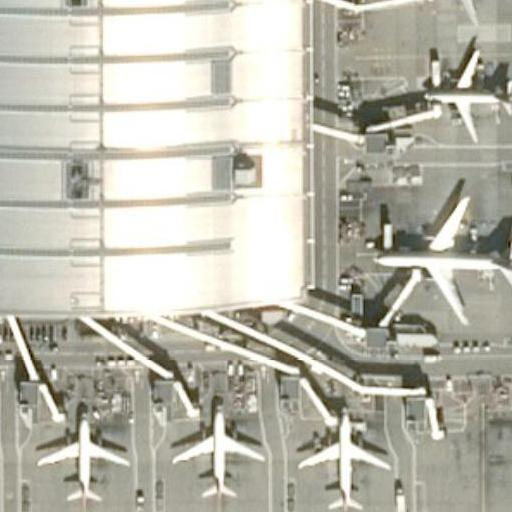Aircraft: (367, 192, 512, 324), (300, 409, 387, 511), (36, 414, 129, 509), (173, 405, 262, 500), (429, 51, 512, 138), (414, 0, 512, 22)
